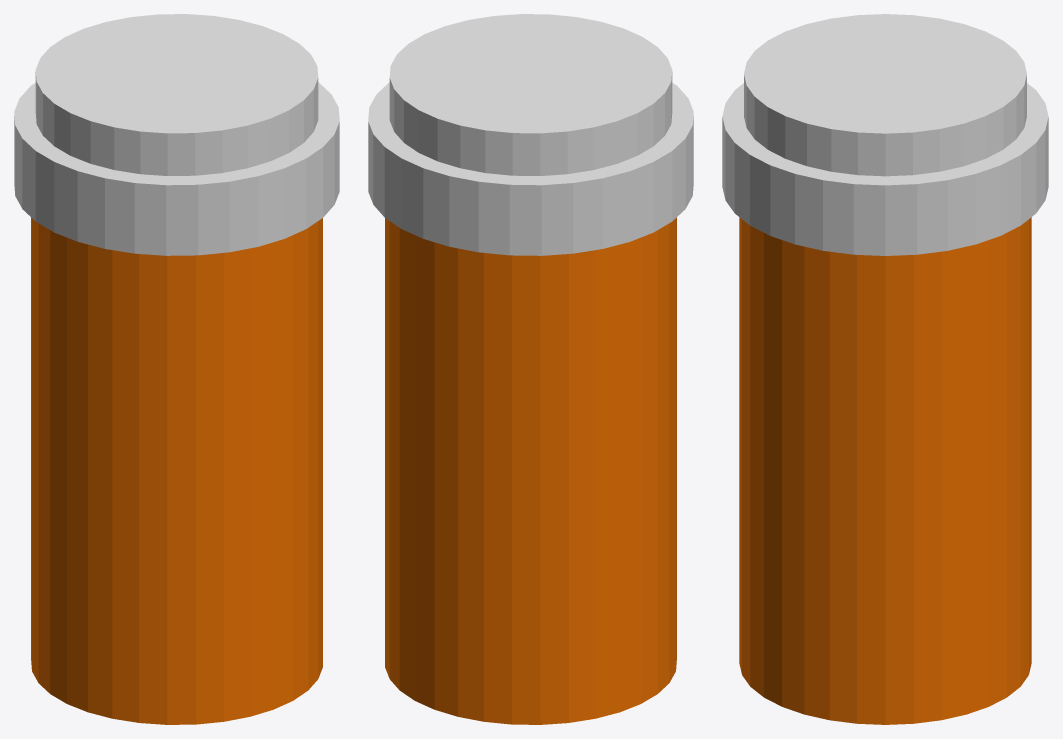
The model's file is pillbottles.fbx.
The picture shows the model from 3 angles, left to right: view 1: azimuth 30°, elevation 25°; view 2: azimuth 150°, elevation 25°; view 3: azimuth 270°, elevation 25°; orthographic projection.
Parts seen in each view (by area): view 1: Cylinder.002; view 2: Cylinder.002; view 3: Cylinder.002.
Part boxes in pixels (<box>): Cylinder.002: <box>14,14,339,724</box>; Cylinder.002: <box>368,14,693,724</box>; Cylinder.002: <box>722,14,1048,724</box>.
Size of the model in its own units: 223 by 445 by 223.
